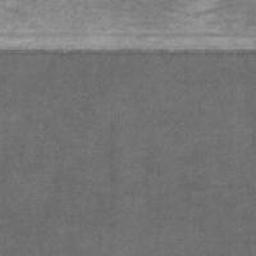Welding line: (0, 47, 256, 56)
